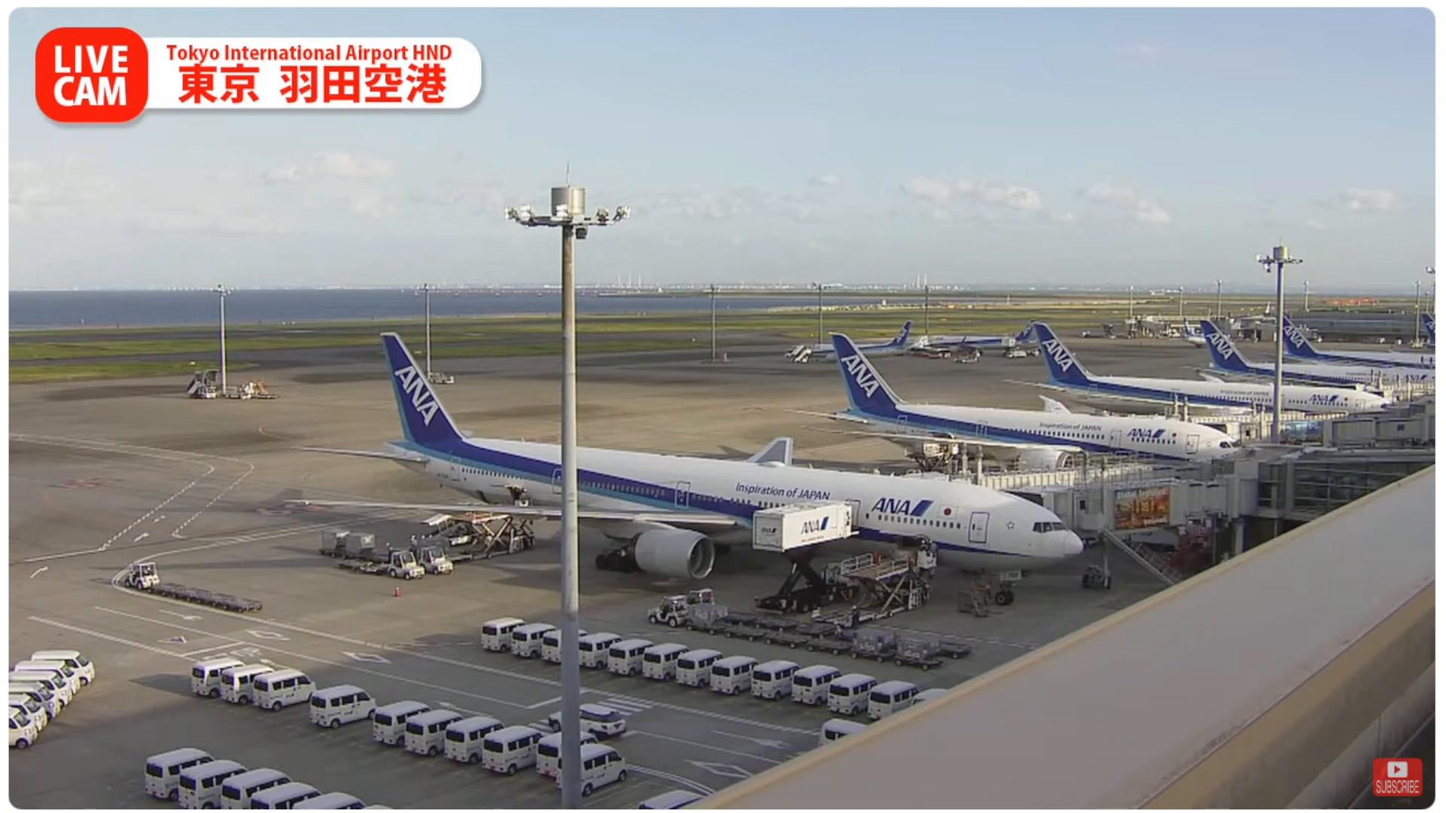Aerobridge: (990, 474, 1217, 523), (903, 458, 1204, 486)
Airplane: (290, 334, 1076, 584)
Catering: (752, 500, 856, 611)
Dolly: (686, 622, 945, 671), (724, 609, 977, 657), (149, 582, 268, 616), (320, 525, 412, 563), (336, 558, 388, 575)
JCPL: (810, 546, 940, 625)
Skyloader: (424, 510, 487, 546)
Tractor: (645, 595, 714, 628), (688, 587, 729, 620), (121, 561, 162, 591), (387, 551, 426, 582), (419, 547, 454, 576)
Window: (1253, 443, 1435, 520)
